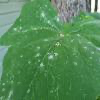Squash Powdery mildew leaf: (0, 2, 99, 100)
